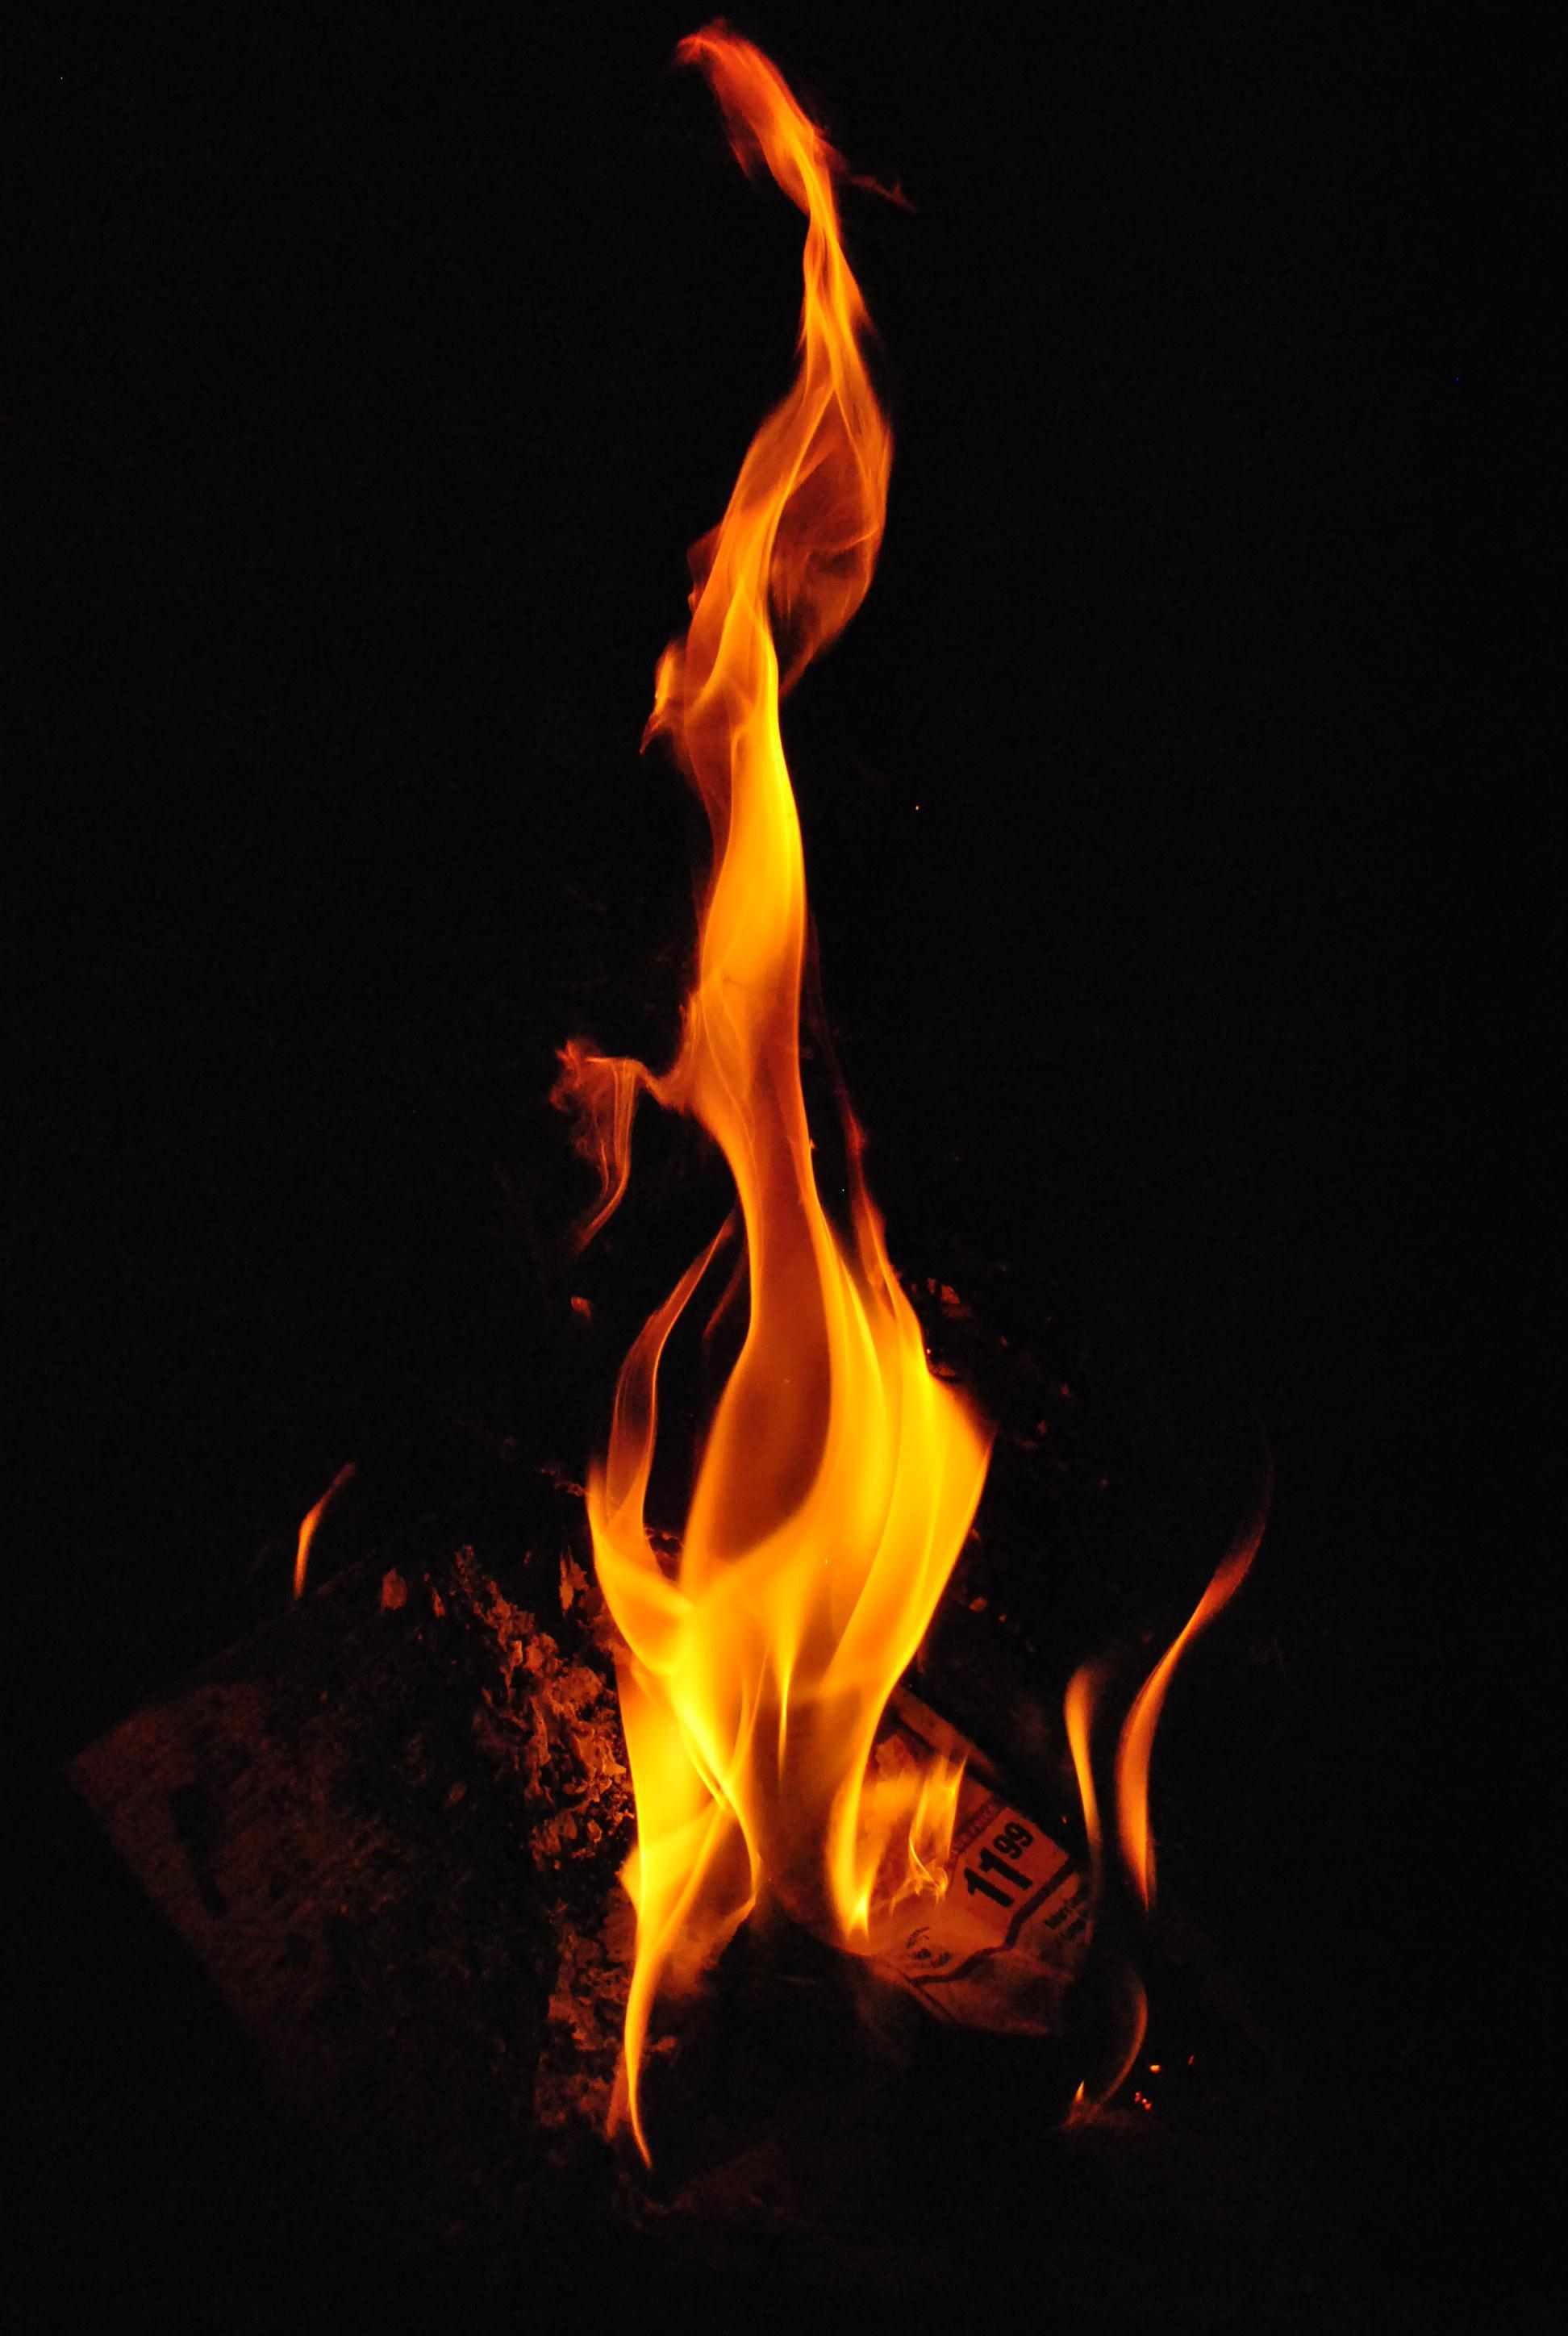fire: (404, 56, 1293, 2214)
